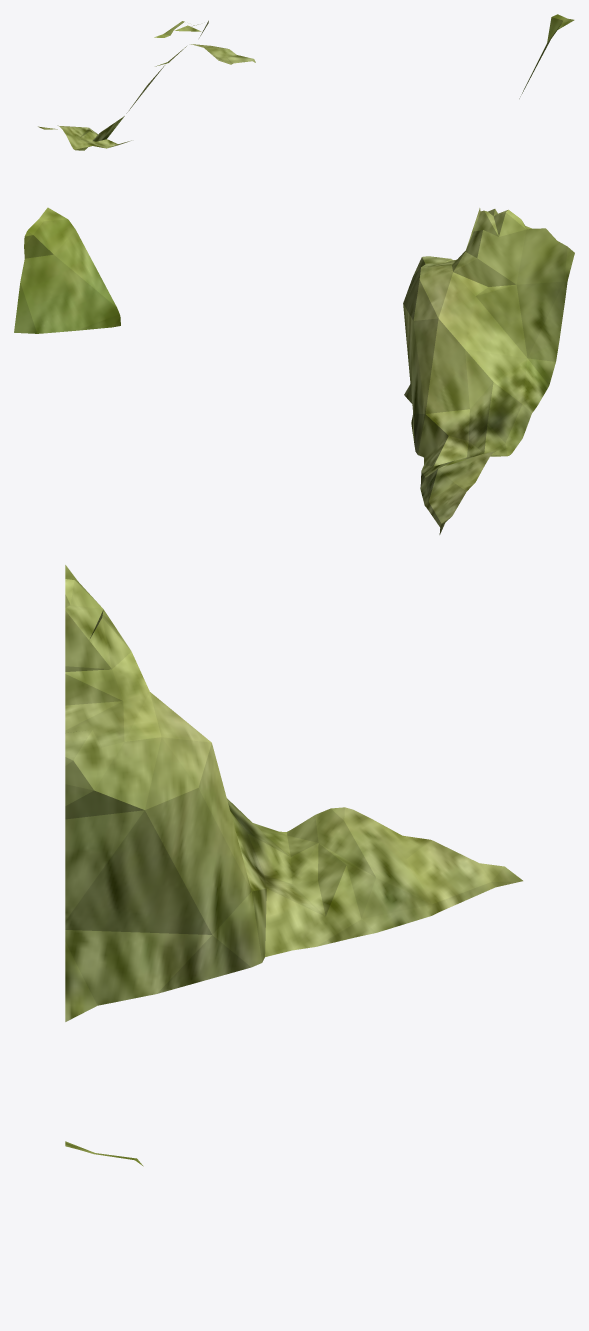
3 renders of one model, top to bottom at view 1: azimuth 30°, elevation 25°; view 2: azimuth 150°, elevation 25°; view 3: azimuth 270°, elevation 25°, orthographic. The views are drawn at different scales.
Size of the model in its own units: 2.95 by 1.13 by 1.31.
Materials: 1 (1 with a texture image).
